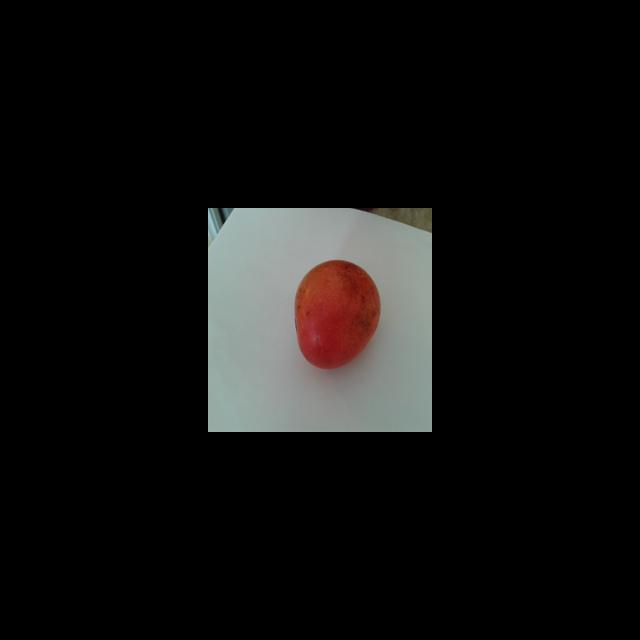Mango: (293, 258, 381, 369)
